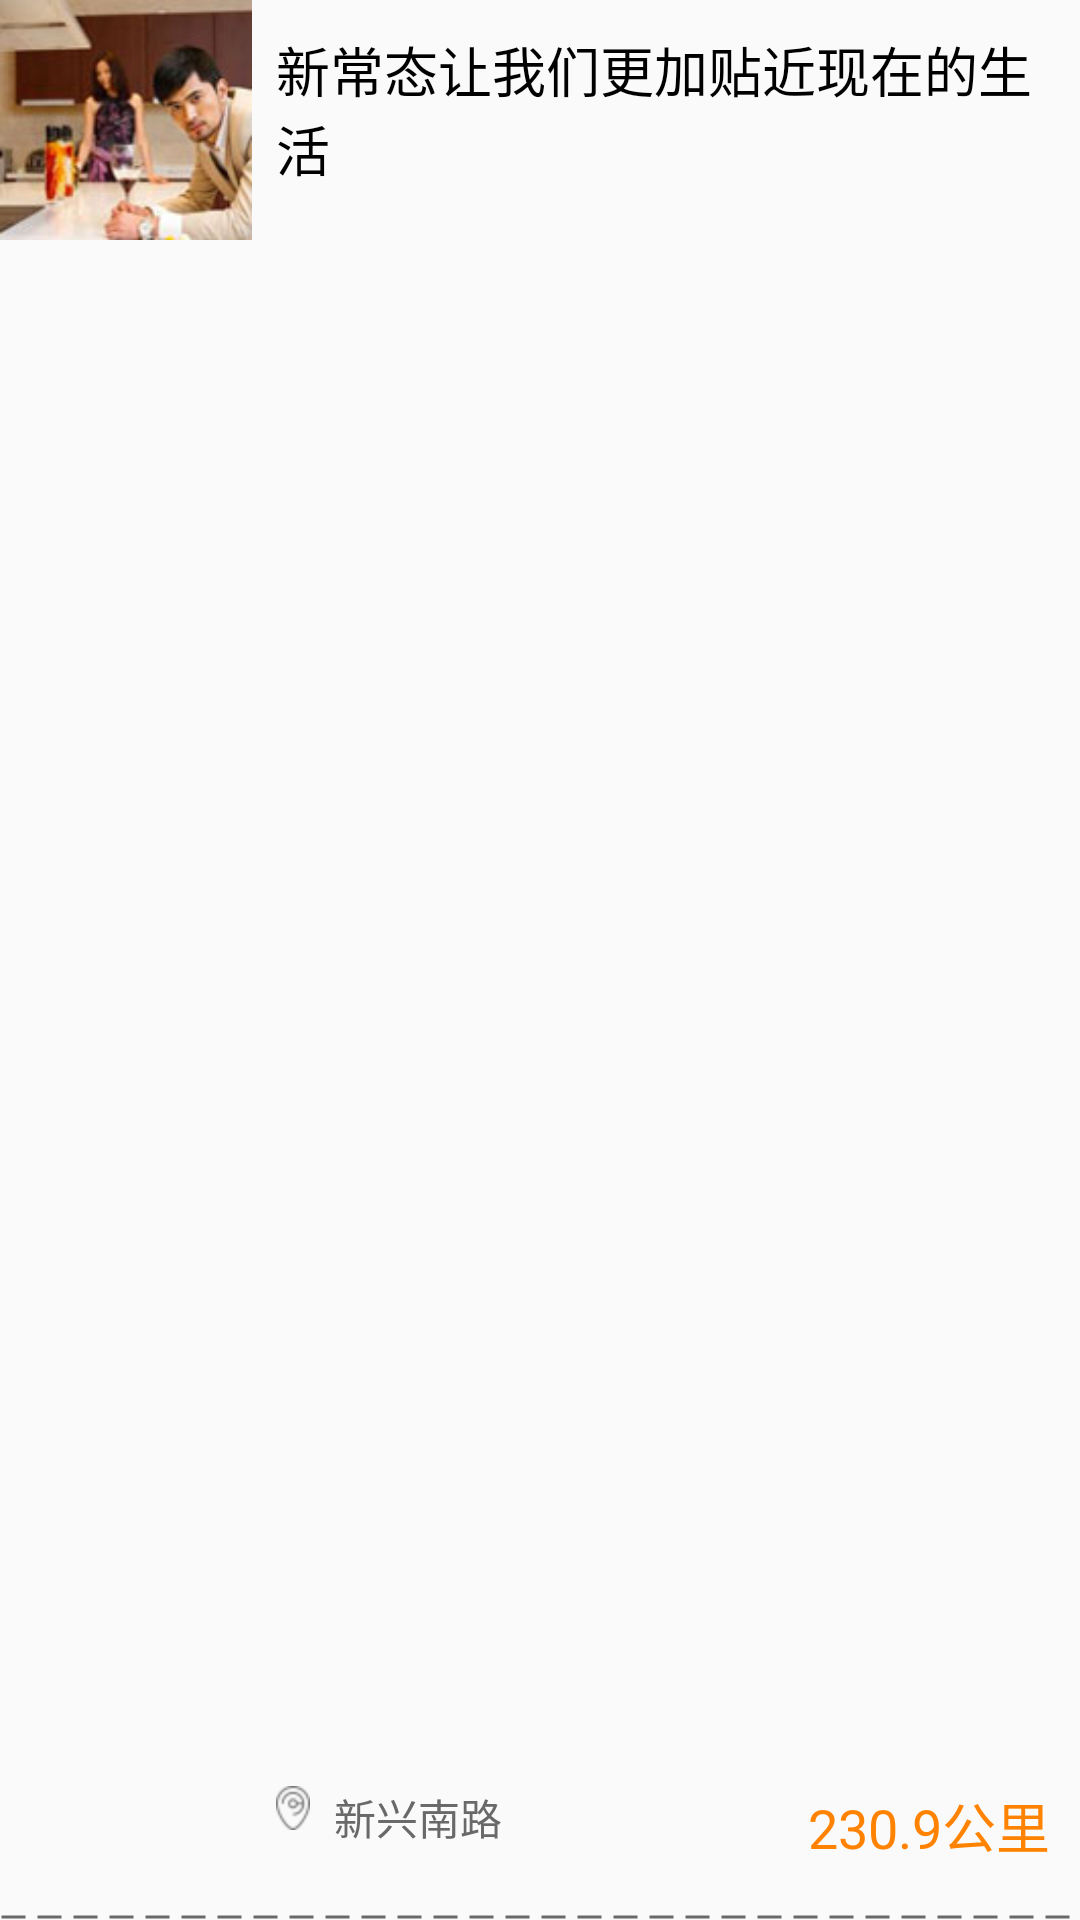

Icon bounding boxes for this 1080 × 1920 phone screenshot, format bbox=(x1, y1, x2, y2):
mimage: bbox=(0, 0, 252, 240)
pin: bbox=(276, 1786, 310, 1830)
